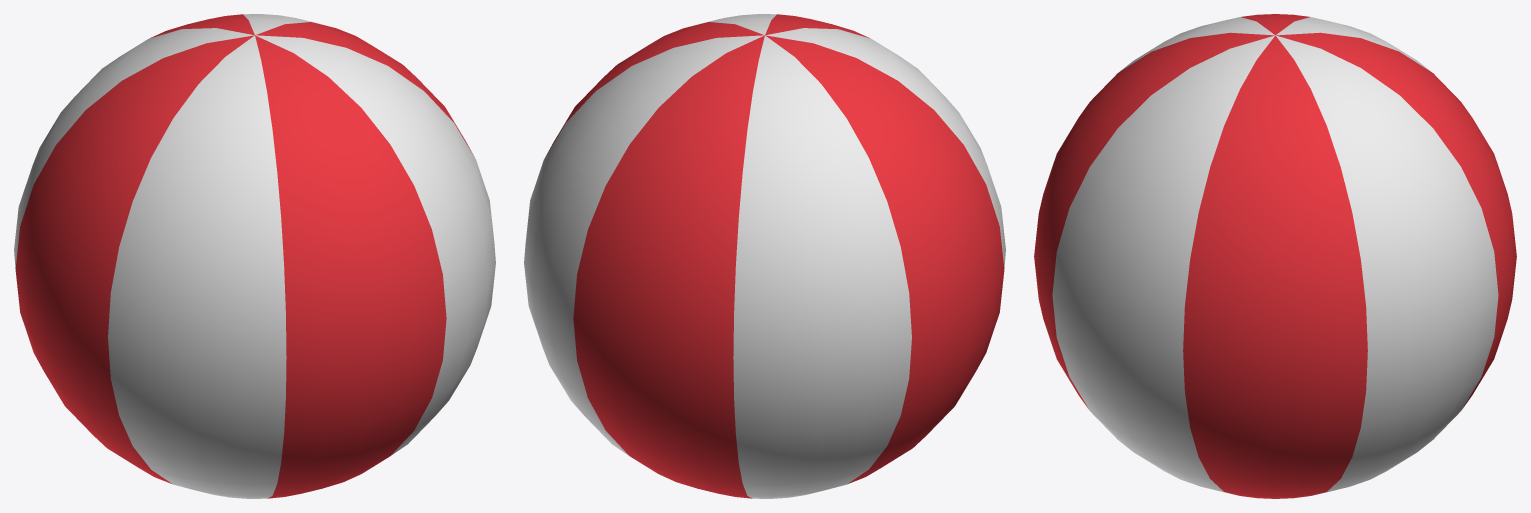
The model's file is ball.fbx.
3 views of the same model, side by side, from view 1: azimuth 30°, elevation 25°; view 2: azimuth 150°, elevation 25°; view 3: azimuth 270°, elevation 25° (orthographic).
Visible parts, largest first — view 1: Sphere; view 2: Sphere; view 3: Sphere.
Part boxes in pixels (x1,y1,x2,y2): Sphere: [14, 14, 495, 498]; Sphere: [524, 14, 1005, 498]; Sphere: [1034, 14, 1516, 498].
Bounding box in the file's own units: 197 × 200 × 197.
